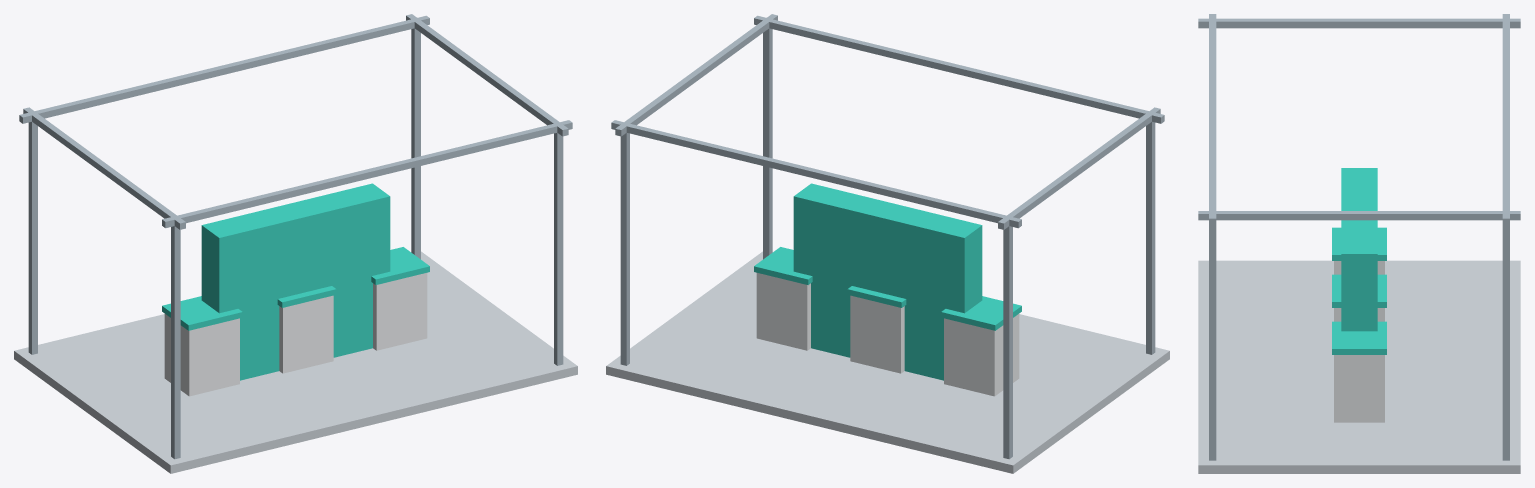
3 renders of one model, left to right at view 1: azimuth 30°, elevation 25°; view 2: azimuth 150°, elevation 25°; view 3: azimuth 270°, elevation 25°, orthographic. The views are drawn at different scales.
Visible parts, largest first — view 1: Exhibition Booth Concept; view 2: Exhibition Booth Concept; view 3: Exhibition Booth Concept.
Boxes of the visible parts, bbox=[...] form: Exhibition Booth Concept: bbox=[14, 14, 577, 473]; Exhibition Booth Concept: bbox=[606, 14, 1169, 473]; Exhibition Booth Concept: bbox=[1198, 14, 1520, 473].
Size of the model in its own units: 6 by 3.49 by 4.
